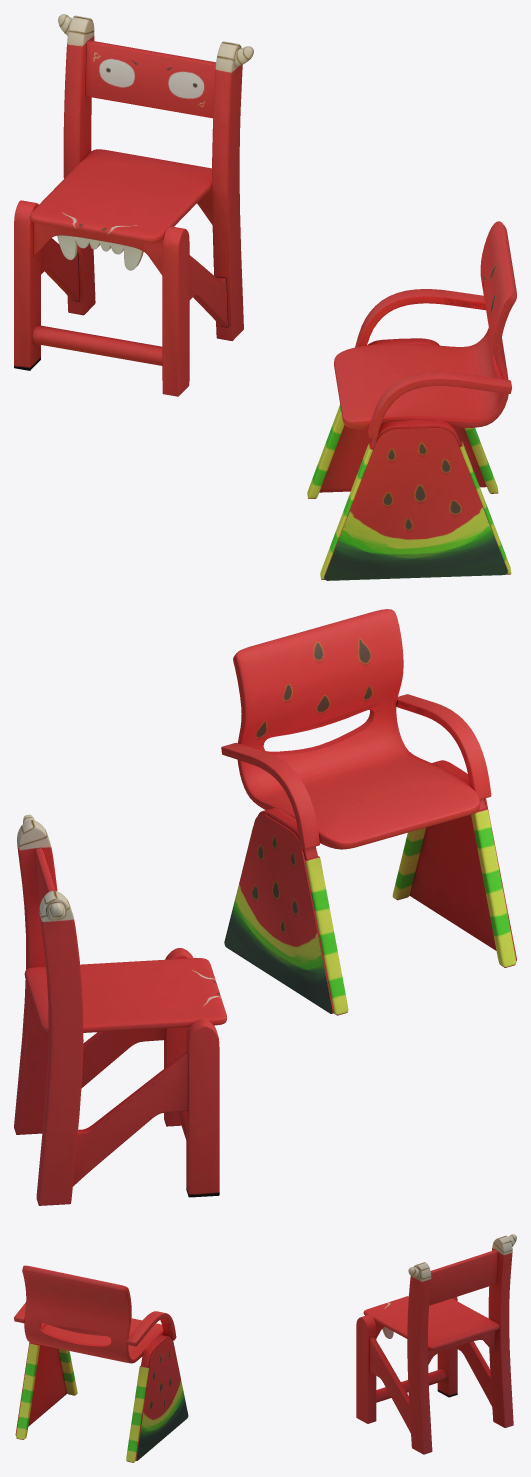
The model's file is Chair_LOD2.glb.
3 renders of one model, top to bottom at view 1: azimuth 30°, elevation 25°; view 2: azimuth 150°, elevation 25°; view 3: azimuth 270°, elevation 25°, orthographic. The views are drawn at different scales.
Parts seen in each view (by area): view 1: Chair 1_Retopo.001_LOD2; view 2: Chair 1_Retopo.001_LOD2; view 3: Chair 1_Retopo.001_LOD2.
Boxes of the visible parts, left/top/right/bottom form: Chair 1_Retopo.001_LOD2: left=14, top=14, right=516, bottom=580; Chair 1_Retopo.001_LOD2: left=14, top=609, right=516, bottom=1205; Chair 1_Retopo.001_LOD2: left=14, top=1234, right=516, bottom=1462.
Size of the model in its own units: 0.8643 by 0.9978 by 2.44.
Materials: 1 (1 with a texture image).
